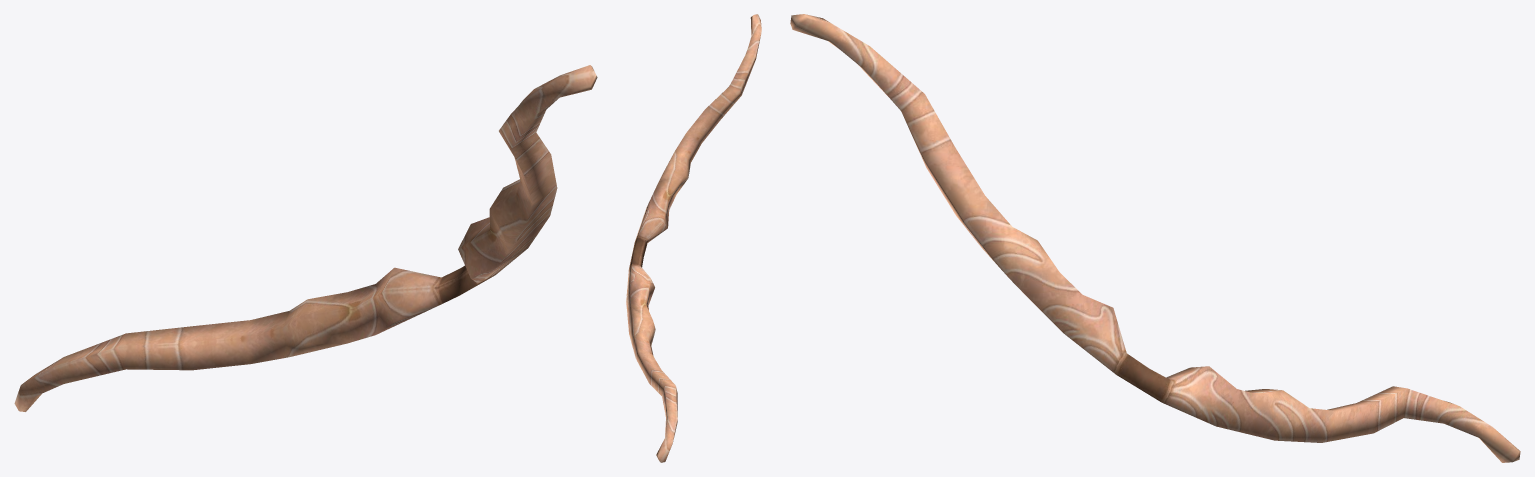
The model's file is bow-ironweapons.glb.
The picture shows the model from 3 angles, left to right: view 1: azimuth 30°, elevation 25°; view 2: azimuth 150°, elevation 25°; view 3: azimuth 270°, elevation 25°; orthographic projection. The views are drawn at different scales.
Bounding box in the file's own units: 0.5263 × 1.03 × 1.26.
1 material, 1 textured.
